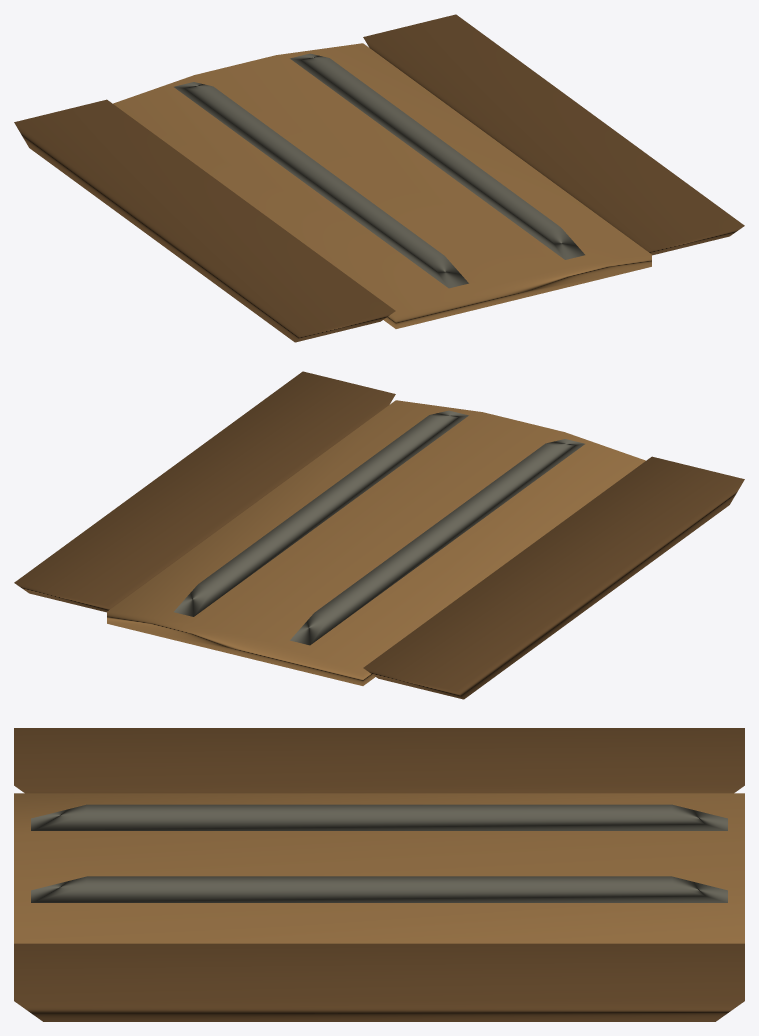
The model's file is R26_HAN_ROAD_SEGMENT_PRODUCTION_A.fbx.
3 renders of one model, top to bottom at view 1: azimuth 30°, elevation 25°; view 2: azimuth 150°, elevation 25°; view 3: azimuth 270°, elevation 25°, orthographic. The views are drawn at different scales.
Visible parts, largest first — view 1: road, shoulder_e, shoulder_w, track_e, track_w; view 2: road, shoulder_e, shoulder_w, track_e, track_w; view 3: road, shoulder_w, shoulder_e, track_w, track_e.
Boxes of the visible parts, left/top/right/bottom form: road: left=113, top=43, right=651, bottom=328; shoulder_e: left=14, top=99, right=395, bottom=342; shoulder_w: left=363, top=14, right=744, bottom=255; track_e: left=174, top=82, right=468, bottom=288; track_w: left=290, top=53, right=584, bottom=259; road: left=107, top=400, right=645, bottom=685; shoulder_e: left=363, top=456, right=744, bottom=699; shoulder_w: left=14, top=371, right=395, bottom=612; track_e: left=290, top=439, right=584, bottom=645; track_w: left=174, top=410, right=468, bottom=616; road: left=14, top=793, right=744, bottom=943; shoulder_w: left=14, top=943, right=744, bottom=1021; shoulder_e: left=14, top=728, right=744, bottom=793; track_w: left=31, top=876, right=727, bottom=902; track_e: left=31, top=804, right=727, bottom=830.
Size of the model in its own units: 76 by 5.5 by 86.
